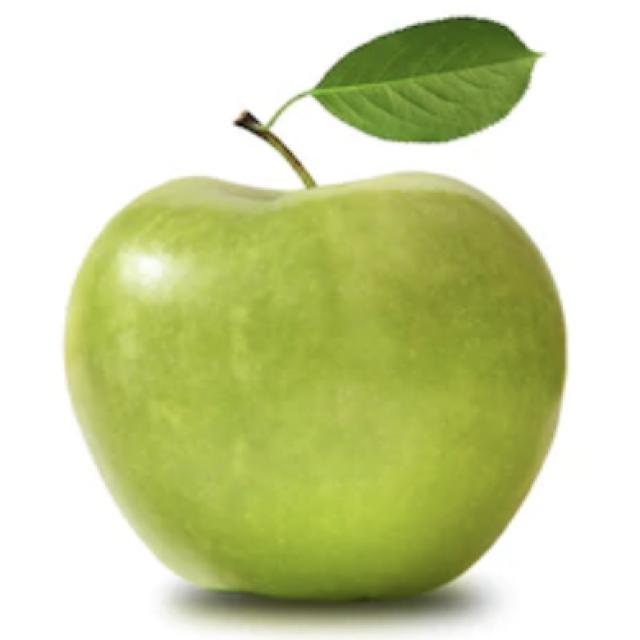Fresh Apple: (69, 155, 558, 622)
